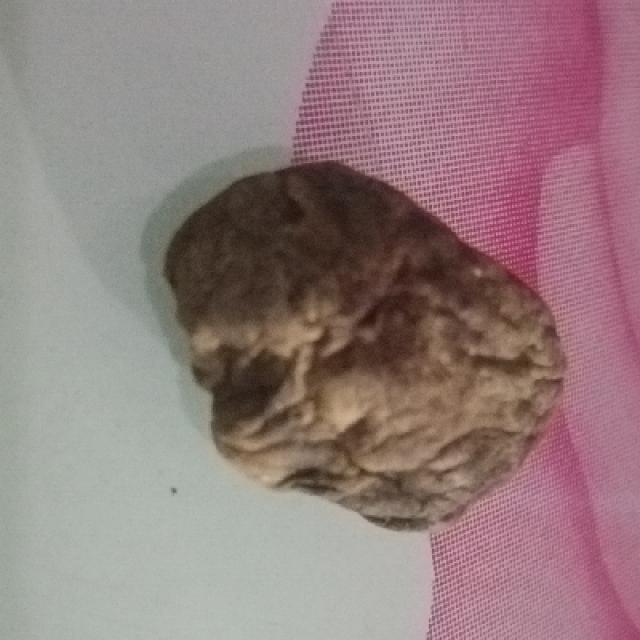Lentinus edodes: (166, 160, 566, 529)
